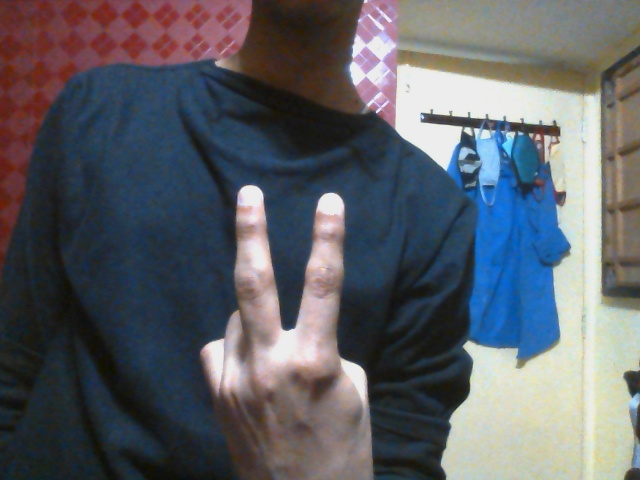V: (198, 183, 373, 469)
